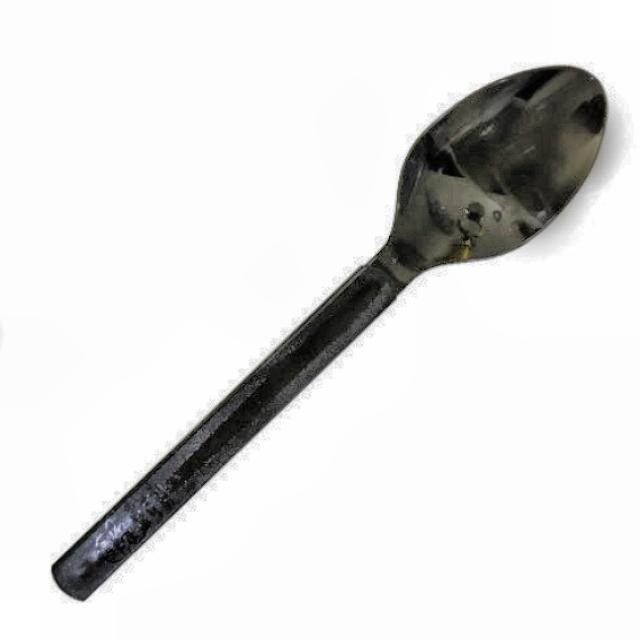plastic utensil: (49, 62, 611, 602)
